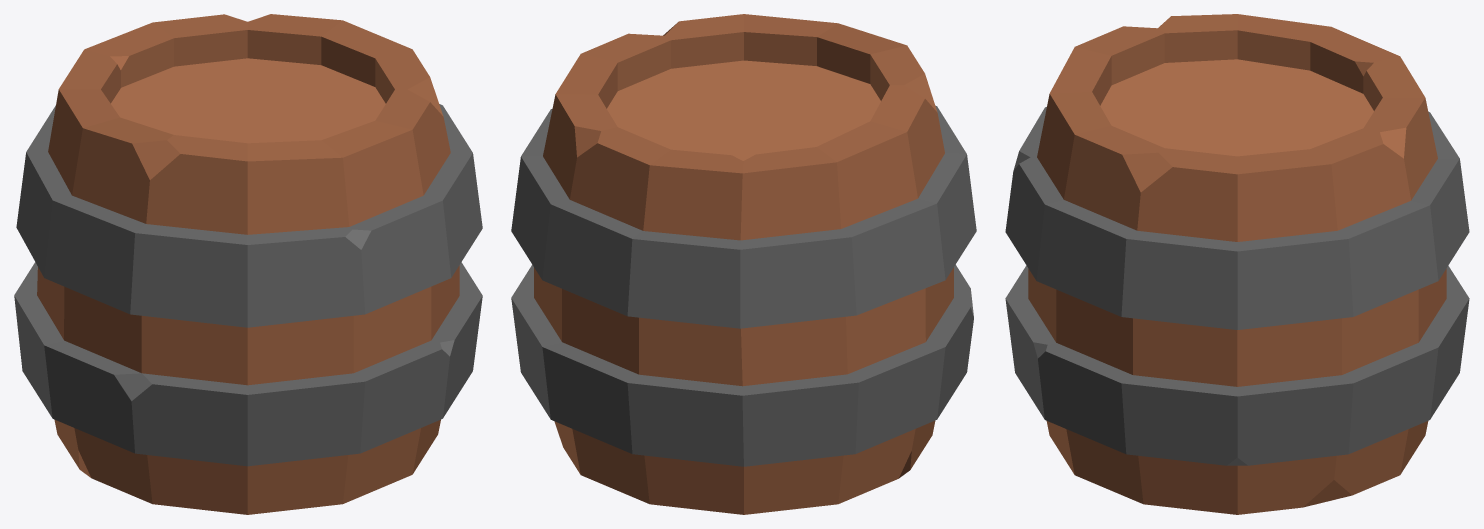
Rendered from barrel_damaged.glb.
3 renders of one model, left to right at view 1: azimuth 30°, elevation 25°; view 2: azimuth 150°, elevation 25°; view 3: azimuth 270°, elevation 25°, orthographic.
Parts seen in each view (by area): view 1: barrel_damaged; view 2: barrel_damaged; view 3: barrel_damaged.
Part boxes in pixels (x1,y1,x2,y2): barrel_damaged: (14, 14, 482, 514); barrel_damaged: (511, 14, 976, 514); barrel_damaged: (1005, 14, 1469, 514).
Bounding box in the file's own units: 0.4007 × 0.3324 × 0.4007.
Materials: 1 (1 with a texture image).
